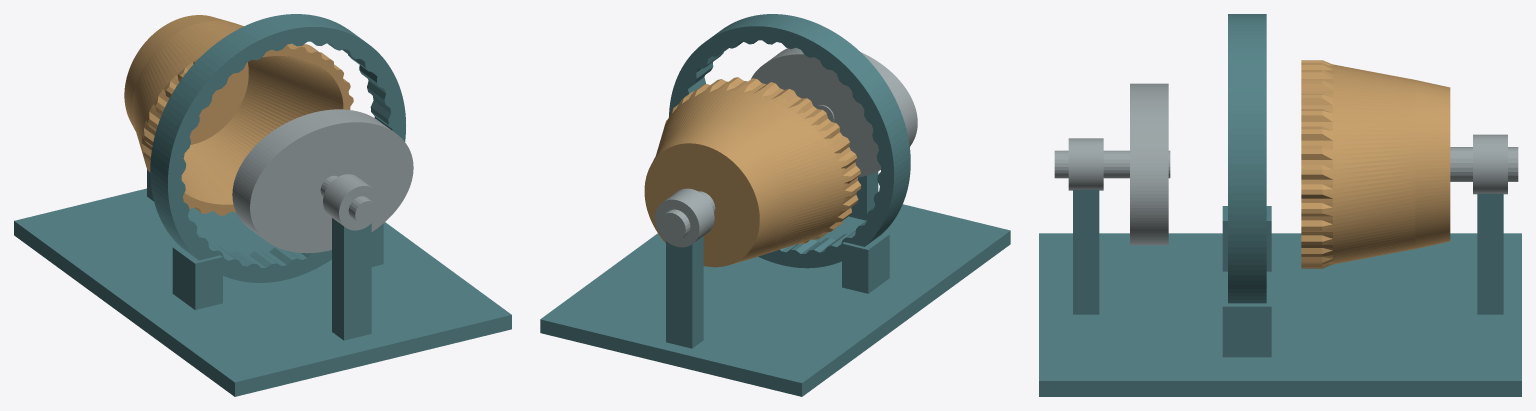
The picture shows the model from 3 angles, left to right: view 1: azimuth 30°, elevation 25°; view 2: azimuth 150°, elevation 25°; view 3: azimuth 270°, elevation 25°; orthographic projection. The views are drawn at different scales.
Visible parts, largest first — view 1: WholeCommonDisplayBed, WholeDeepOvalMouthToothedCup, WholeSeparatedInternalToothRing, WholeSeparatedBoredEllipticalInsert, WholeFrontPedestal, WholeRingRoot_-1, WholeFrontBoredBearing, WholeFrontInsertShaft, WholeRingRoot_1; view 2: WholeCommonDisplayBed, WholeDeepOvalMouthToothedCup, WholeSeparatedInternalToothRing, WholeSeparatedBoredEllipticalInsert, WholeRearPedestal, WholeRingRoot_-1, WholeRearBoredBearing, WholeRearCupShaft, WholeFrontPedestal; view 3: WholeCommonDisplayBed, WholeDeepOvalMouthToothedCup, WholeSeparatedInternalToothRing, WholeSeparatedBoredEllipticalInsert, WholeFrontPedestal, WholeRearPedestal, WholeRingRoot_1, WholeRearBoredBearing, WholeFrontBoredBearing, WholeFrontInsertShaft, WholeRearCupShaft, WholeRingRoot_-1.
Part boxes in pixels (x1,y1,x2,y2): WholeCommonDisplayBed: [14, 188, 511, 396]; WholeDeepOvalMouthToothedCup: [124, 15, 353, 215]; WholeSeparatedInternalToothRing: [150, 14, 405, 282]; WholeSeparatedBoredEllipticalInsert: [232, 109, 413, 253]; WholeFrontPedestal: [332, 218, 371, 340]; WholeRingRoot_-1: [172, 245, 222, 309]; WholeFrontBoredBearing: [323, 174, 380, 230]; WholeFrontInsertShaft: [320, 175, 377, 224]; WholeRingRoot_1: [371, 223, 383, 266]; WholeCommonDisplayBed: [540, 204, 1010, 396]; WholeDeepOvalMouthToothedCup: [644, 77, 861, 267]; WholeSeparatedInternalToothRing: [669, 14, 910, 268]; WholeSeparatedBoredEllipticalInsert: [751, 48, 917, 177]; WholeRearPedestal: [666, 236, 703, 348]; WholeRingRoot_-1: [842, 233, 889, 293]; WholeRearBoredBearing: [655, 188, 714, 247]; WholeRearCupShaft: [659, 191, 715, 240]; WholeFrontPedestal: [849, 171, 878, 220]; WholeCommonDisplayBed: [1039, 233, 1521, 396]; WholeDeepOvalMouthToothedCup: [1301, 60, 1450, 268]; WholeSeparatedInternalToothRing: [1228, 14, 1266, 303]; WholeSeparatedBoredEllipticalInsert: [1130, 83, 1168, 245]; WholeFrontPedestal: [1073, 189, 1099, 314]; WholeRearPedestal: [1477, 193, 1503, 314]; WholeRingRoot_1: [1222, 292, 1271, 357]; WholeRearBoredBearing: [1473, 134, 1507, 194]; WholeFrontBoredBearing: [1068, 138, 1103, 190]; WholeFrontInsertShaft: [1054, 150, 1170, 178]; WholeRearCupShaft: [1450, 147, 1518, 181]; WholeRingRoot_-1: [1222, 206, 1271, 271].
Bounding box in the file's own units: 2 × 1.86 × 2.76.
